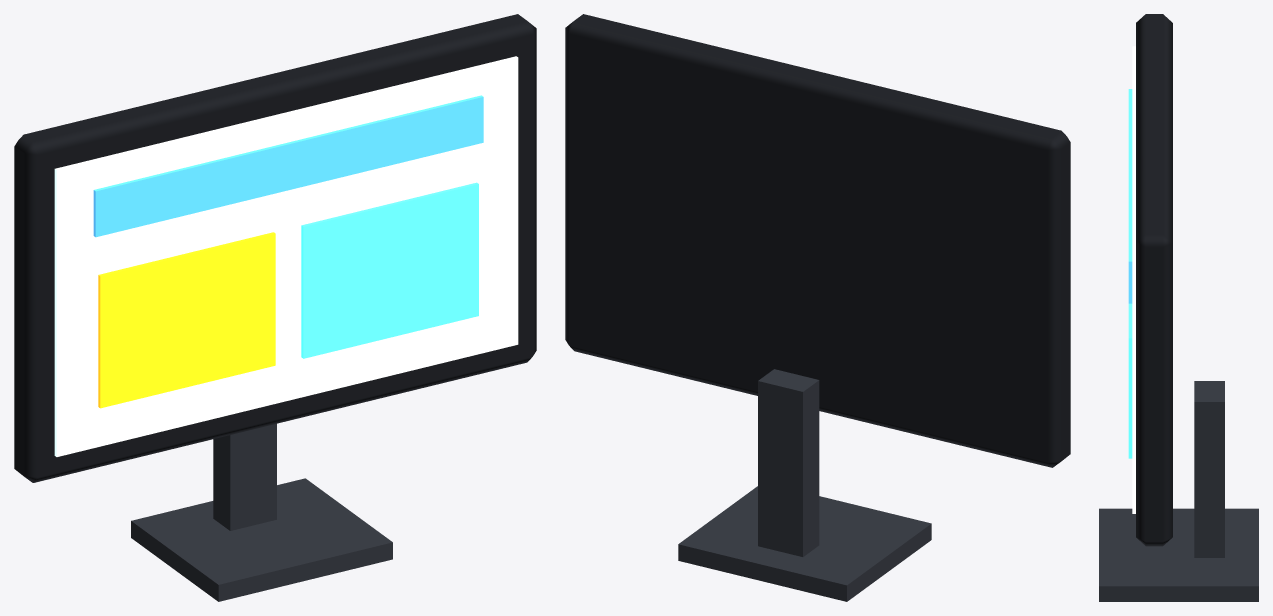
Rendered from station_intake_ausstattung_1_0.glb.
The picture shows the model from 3 angles, left to right: view 1: azimuth 30°, elevation 25°; view 2: azimuth 150°, elevation 25°; view 3: azimuth 270°, elevation 25°; orthographic projection. The views are drawn at different scales.
Visible parts, largest first — view 1: station_intake_ausstattung_1_0; view 2: station_intake_ausstattung_1_0; view 3: station_intake_ausstattung_1_0.
Part boxes in pixels (left/top/right/bottom): station_intake_ausstattung_1_0: left=14, top=14, right=536, bottom=601; station_intake_ausstattung_1_0: left=565, top=14, right=1070, bottom=601; station_intake_ausstattung_1_0: left=1099, top=14, right=1258, bottom=601.
Size of the model in its own units: 0.44 by 0.394 by 0.13.
